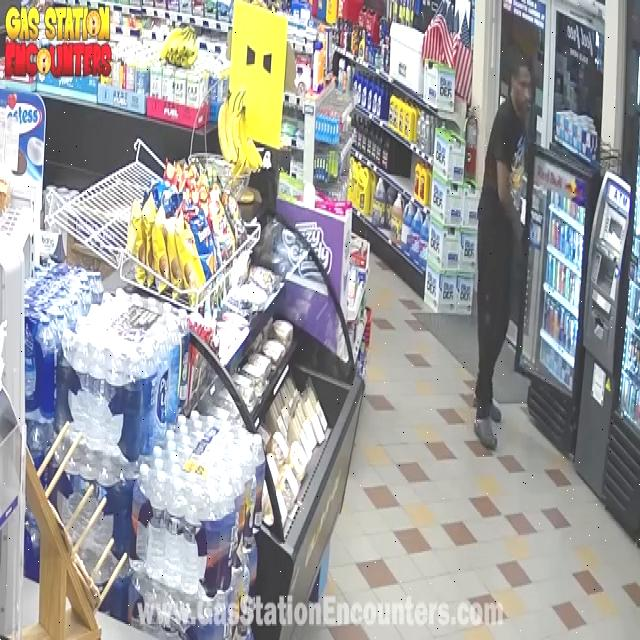person: (474, 52, 531, 450)
